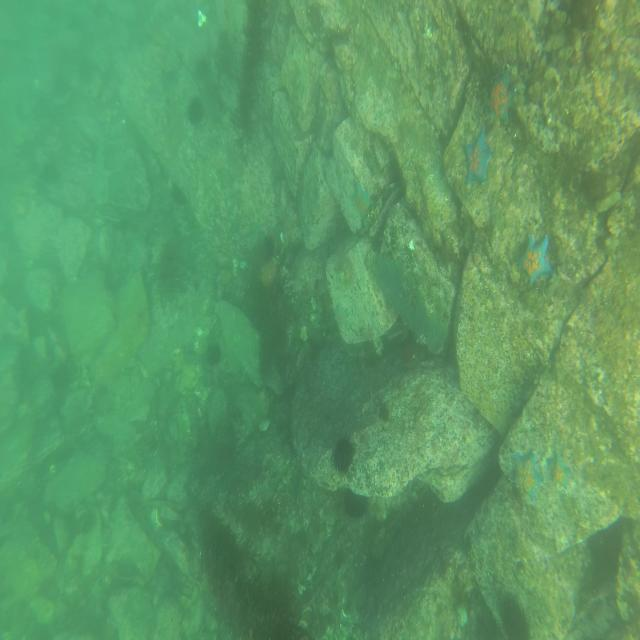echinus: (151, 234, 184, 310), (495, 588, 530, 640), (344, 482, 370, 521), (330, 434, 354, 470), (338, 253, 355, 288), (188, 98, 202, 125), (195, 52, 208, 81), (207, 339, 221, 365)
starfish: (517, 225, 551, 288), (508, 446, 542, 506), (460, 126, 492, 187), (488, 66, 516, 128), (546, 449, 571, 493)
